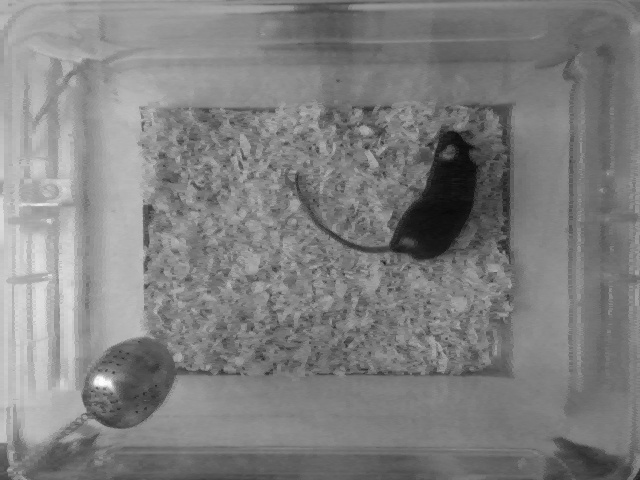mice: (290, 127, 478, 259)
